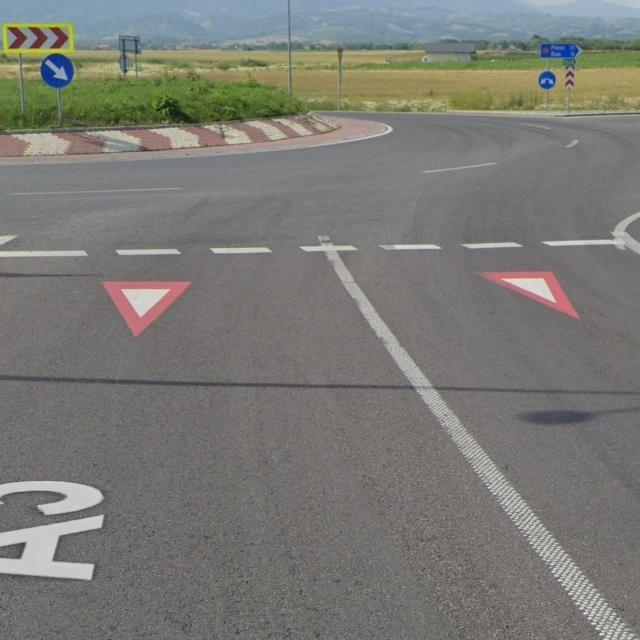prio_give_way: (103, 278, 196, 337), (474, 269, 582, 319)
